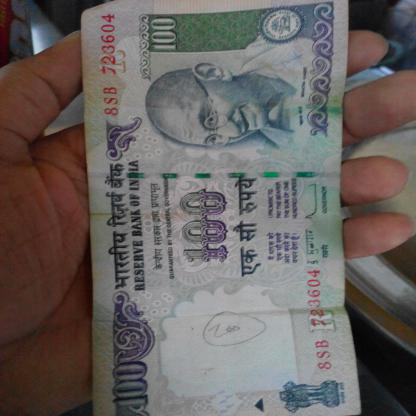Old100Front: (80, 0, 364, 416)
